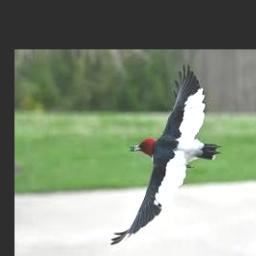Woodpecker: (111, 64, 221, 245)
